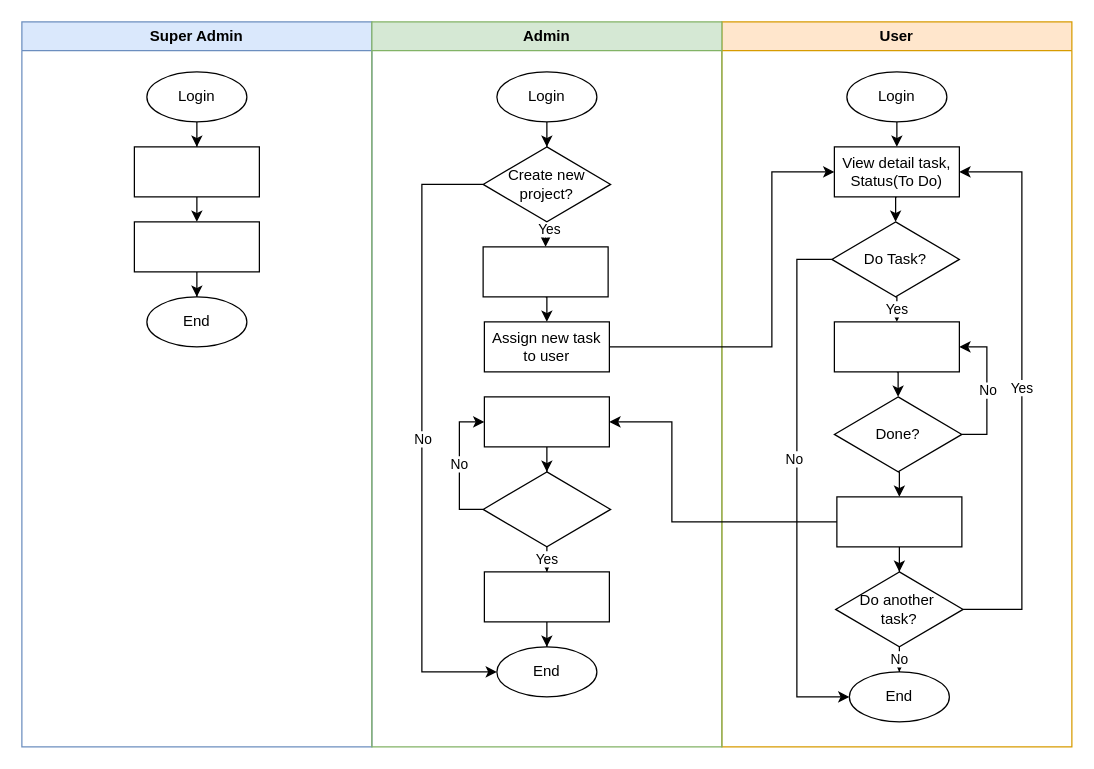
This 1094x769 diagram has some shape labels left out. The shapes that lost their labels are listed below. From the top down, each one's centre as x and y in pixels, then its label:
point 196,171: Manage roles / permissions
point 196,246: Manage users (admin, user)
point 545,271: Add new project (Manage rojects)
point 896,346: Working on task, Status(In Progres)
point 546,421: Monitoring task
point 546,509: Export project report?
point 899,521: Task done, Status(Done)
point 546,596: Export by .csv or .xlsx
